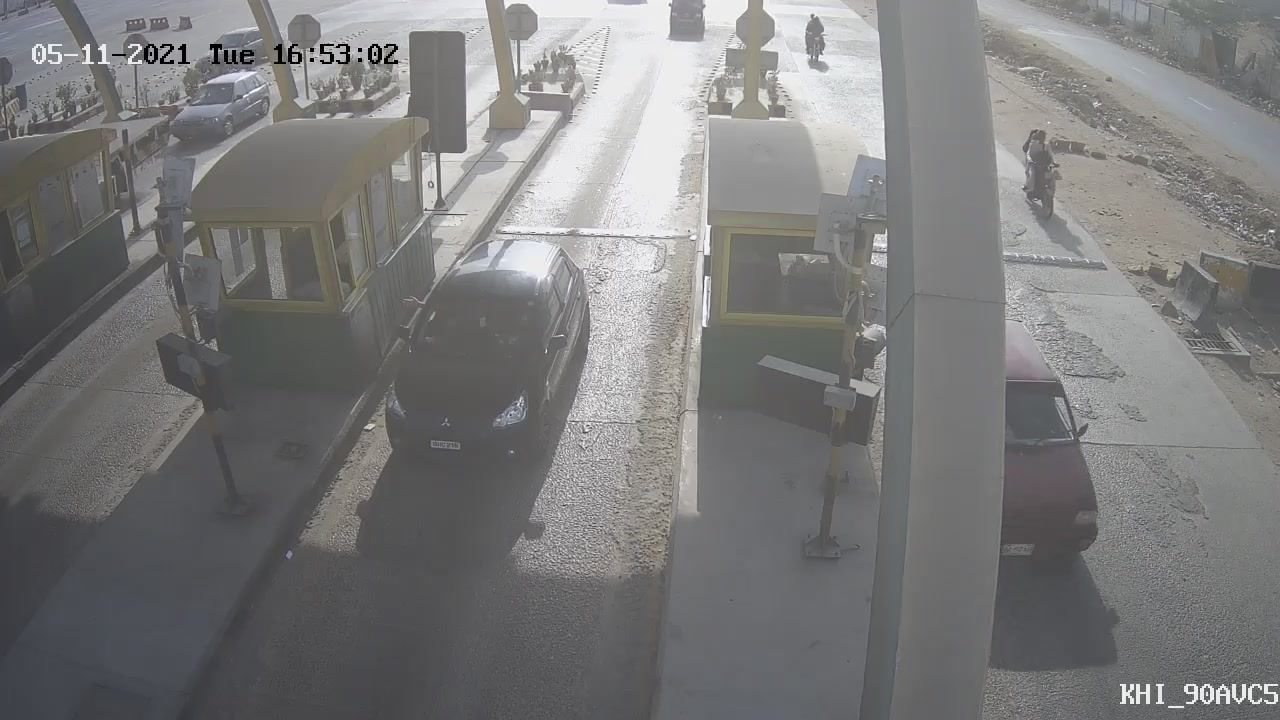F1: (356, 209, 614, 485)
